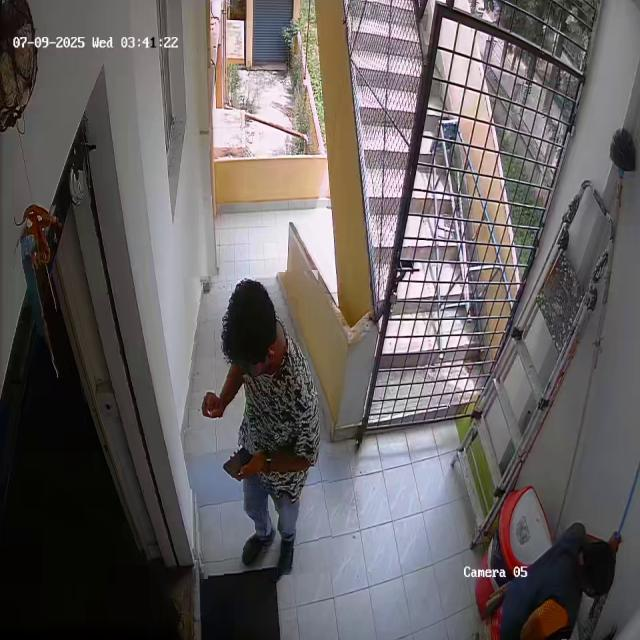person: (187, 272, 330, 577)
